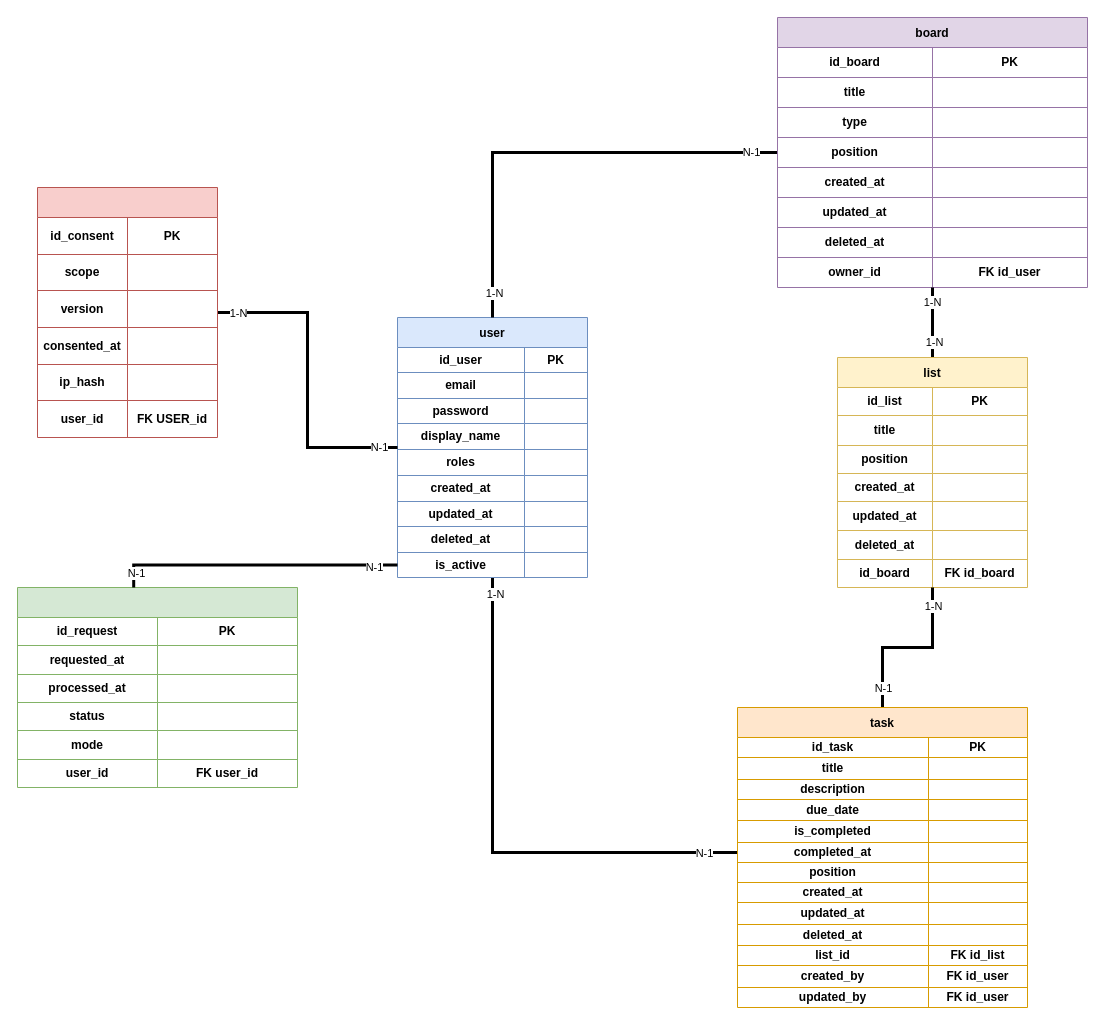
This 1105x1025 diagram has some shape labels left out. Here are the shapes that lost their labels. From the top down, the box of each, then its label:
(36, 186, 218, 438): Legal_consent
(16, 586, 298, 788): account_deletion_request
